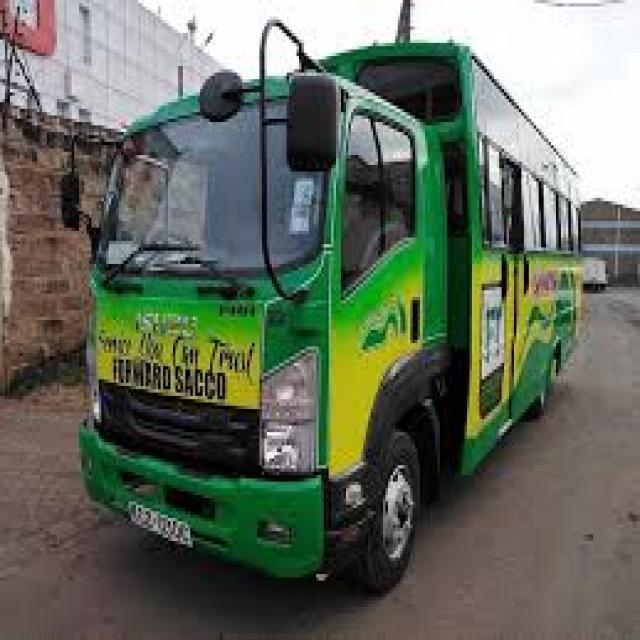bus: (41, 16, 616, 611)
